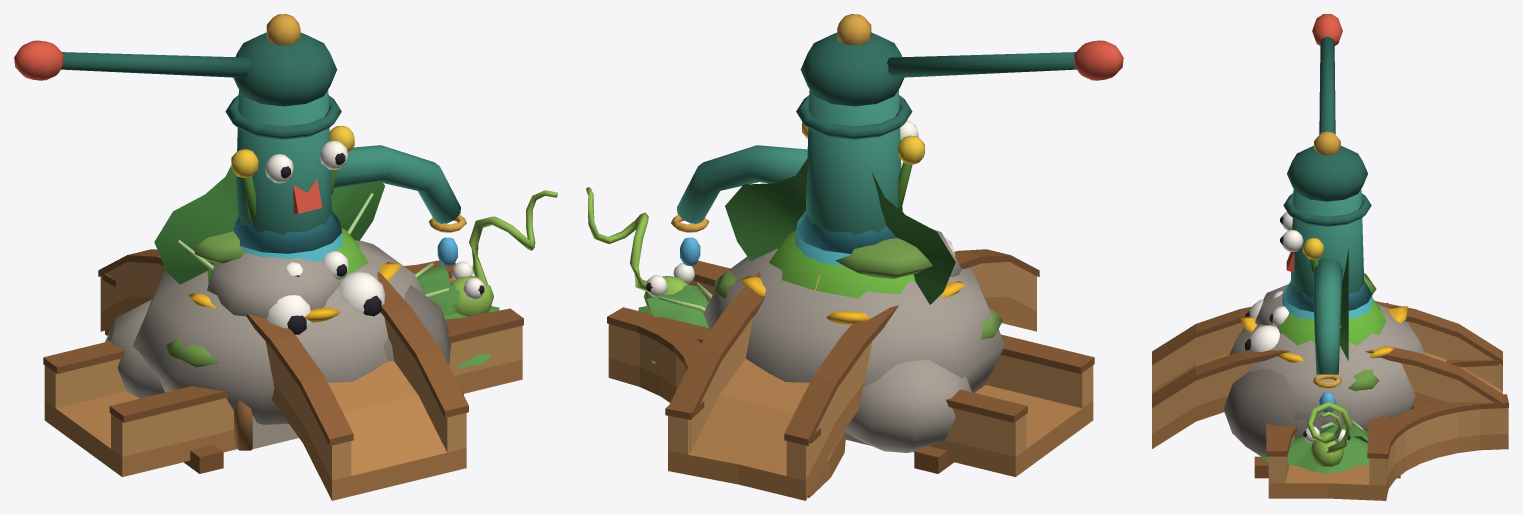
File: vine-care-cast.glb
The picture shows the model from 3 angles, left to right: view 1: azimuth 30°, elevation 25°; view 2: azimuth 150°, elevation 25°; view 3: azimuth 270°, elevation 25°; orthographic projection. The views are drawn at different scales.
Parts seen in each view (by area): view 1: CRITTER_rock, CRITTER_cross_bridge_floor, CRITTER_pump_column, CRITTER_trellis_leaf_blade, CRITTER_trough_floor, CRITTER_trough_wall_R, CRITTER_pump_cap, CRITTER_cross_bridge_wall_L, CRITTER_pump_spout, CRITTER_cross_bridge_rim_L, CRITTER_cross_bridge_rim_R, CRITTER_pump_lever (+22 smaller); view 2: CRITTER_rock, CRITTER_cross_bridge_floor, CRITTER_pump_column, CRITTER_trellis_leaf_blade, CRITTER_pump_cap, CRITTER_trough_floor, CRITTER_cross_bridge_rim_L, CRITTER_pump_spout, CRITTER_cross_bridge_wall_L, CRITTER_cross_bridge_rim_R, CRITTER_pump_lever, CRITTER_caterpillar_head_ball (+18 smaller); view 3: CRITTER_rock, CRITTER_pump_column, CRITTER_cross_bridge_wall_R, CRITTER_cross_bridge_wall_L, CRITTER_elbow_wall_L, CRITTER_cross_bridge_rim_R, CRITTER_pump_cap, CRITTER_pump_spout, CRITTER_elbow_floor, CRITTER_cross_bridge_rim_L, CRITTER_trough_floor, CRITTER_elbow_rim_L (+20 smaller).
Boxes of the visible parts, left/top/right/bottom form: CRITTER_rock: left=105, top=231, right=450, bottom=424; CRITTER_cross_bridge_floor: left=100, top=296, right=466, bottom=500; CRITTER_pump_column: left=236, top=90, right=331, bottom=234; CRITTER_trellis_leaf_blade: left=154, top=165, right=384, bottom=284; CRITTER_trough_floor: left=44, top=359, right=522, bottom=477; CRITTER_trough_wall_R: left=111, top=325, right=522, bottom=456; CRITTER_pump_cap: left=233, top=32, right=337, bottom=106; CRITTER_cross_bridge_wall_L: left=100, top=262, right=351, bottom=480; CRITTER_pump_spout: left=330, top=145, right=460, bottom=223; CRITTER_cross_bridge_rim_L: left=98, top=249, right=353, bottom=445; CRITTER_cross_bridge_rim_R: left=377, top=271, right=468, bottom=417; CRITTER_pump_lever: left=61, top=52, right=250, bottom=77; CRITTER_rock: left=703, top=229, right=1004, bottom=452; CRITTER_cross_bridge_floor: left=691, top=296, right=1036, bottom=500; CRITTER_pump_column: left=805, top=89, right=902, bottom=234; CRITTER_trellis_leaf_blade: left=725, top=156, right=955, bottom=304; CRITTER_pump_cap: left=800, top=32, right=903, bottom=106; CRITTER_trough_floor: left=913, top=385, right=1093, bottom=476; CRITTER_cross_bridge_rim_L: left=784, top=249, right=1039, bottom=445; CRITTER_pump_spout: left=677, top=145, right=807, bottom=223; CRITTER_cross_bridge_wall_L: left=786, top=262, right=1036, bottom=480; CRITTER_cross_bridge_rim_R: left=669, top=271, right=765, bottom=417; CRITTER_pump_lever: left=887, top=52, right=1076, bottom=77; CRITTER_caterpillar_head_ball: left=769, top=230, right=915, bottom=298; CRITTER_rock: left=1223, top=273, right=1425, bottom=456; CRITTER_pump_column: left=1290, top=189, right=1364, bottom=297; CRITTER_cross_bridge_wall_R: left=1152, top=363, right=1492, bottom=433; CRITTER_cross_bridge_wall_L: left=1152, top=321, right=1502, bottom=390; CRITTER_elbow_wall_L: left=1369, top=408, right=1508, bottom=485; CRITTER_cross_bridge_rim_R: left=1152, top=348, right=1502, bottom=407; CRITTER_pump_cap: left=1287, top=146, right=1367, bottom=201; CRITTER_pump_spout: left=1312, top=258, right=1342, bottom=374; CRITTER_elbow_floor: left=1327, top=407, right=1508, bottom=500; CRITTER_cross_bridge_rim_L: left=1152, top=301, right=1502, bottom=365; CRITTER_trough_floor: left=1268, top=464, right=1369, bottom=498; CRITTER_elbow_rim_L: left=1367, top=394, right=1508, bottom=458.
Size of the model in its own units: 0.671 by 0.5241 by 0.5085.
